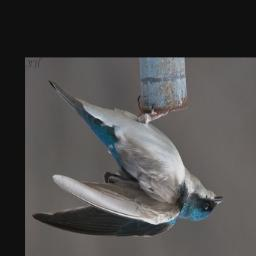Swallow: (30, 77, 226, 241)
